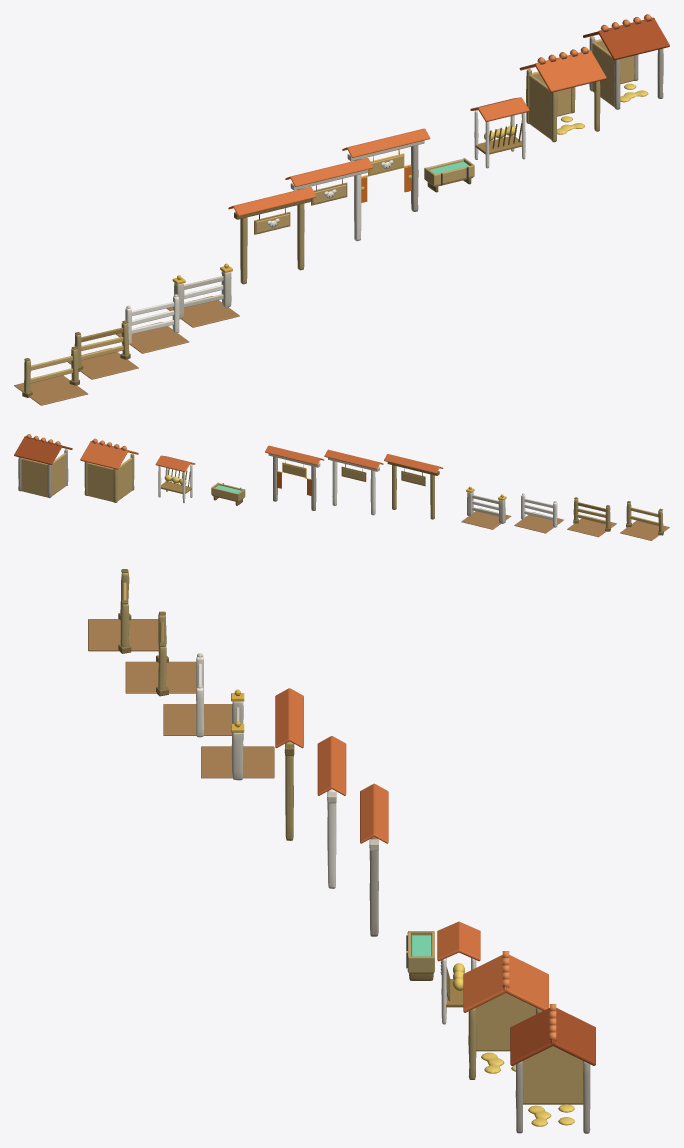
File: enclos-modules.glb
The picture shows the model from 3 angles, top to bottom: view 1: azimuth 30°, elevation 25°; view 2: azimuth 150°, elevation 25°; view 3: azimuth 270°, elevation 25°; orthographic projection. The views are drawn at different scales.
Parts seen in each view (by area): view 1: toit.004, toit.005, mur, mur.001, terre_battue, terre_battue.002, poteau, terre_battue.001, terre_battue.003, toit, toit.002, toit.001 (+7 smaller); view 2: mur, mur.001, toit.004, toit.005, terre_battue, terre_battue.002, terre_battue.001, poteau.001, terre_battue.003, toit.001, toit, toit.002 (+19 smaller); view 3: toit.005, toit.004, mur.001, mur, terre_battue.001, terre_battue.003, terre_battue, terre_battue.002, toit.001, toit.002, toit, toit.003 (+3 smaller).
Boxes of the visible parts, x1=… form: toit.004: x1=519, y1=50, x2=606, y2=92; toit.005: x1=583, y1=17, x2=669, y2=60; mur: x1=529, y1=71, x2=571, y2=139; mur.001: x1=592, y1=39, x2=634, y2=107; terre_battue: x1=14, y1=375, x2=87, y2=405; terre_battue.002: x1=116, y1=322, x2=189, y2=353; poteau: x1=240, y1=203, x2=304, y2=284; terre_battue.001: x1=68, y1=348, x2=138, y2=379; terre_battue.003: x1=166, y1=296, x2=239, y2=327; toit: x1=228, y1=187, x2=316, y2=216; toit.002: x1=342, y1=128, x2=430, y2=157; toit.001: x1=285, y1=157, x2=373, y2=186; mur: x1=87, y1=457, x2=132, y2=501; mur.001: x1=21, y1=453, x2=66, y2=497; toit.004: x1=80, y1=441, x2=138, y2=469; toit.005: x1=14, y1=436, x2=72, y2=464; terre_battue: x1=620, y1=520, x2=669, y2=540; terre_battue.002: x1=514, y1=512, x2=563, y2=533; terre_battue.001: x1=567, y1=515, x2=616, y2=537; poteau.001: x1=332, y1=461, x2=375, y2=515; terre_battue.003: x1=461, y1=508, x2=511, y2=529; toit.001: x1=324, y1=449, x2=383, y2=469; toit: x1=384, y1=454, x2=443, y2=473; toit.002: x1=265, y1=445, x2=323, y2=465; toit.005: x1=510, y1=1008, x2=595, y2=1065; toit.004: x1=463, y1=955, x2=548, y2=1012; mur.001: x1=523, y1=1046, x2=583, y2=1104; mur: x1=475, y1=993, x2=535, y2=1051; terre_battue.001: x1=125, y1=661, x2=196, y2=693; terre_battue.003: x1=201, y1=746, x2=274, y2=778; terre_battue: x1=88, y1=619, x2=158, y2=651; terre_battue.002: x1=163, y1=704, x2=232, y2=735; toit.001: x1=317, y1=736, x2=346, y2=795; toit.002: x1=360, y1=783, x2=388, y2=843; toit: x1=275, y1=688, x2=303, y2=748; toit.003: x1=437, y1=921, x2=480, y2=961.
Size of the model in its own units: 18.33 by 1.78 by 7.58.
